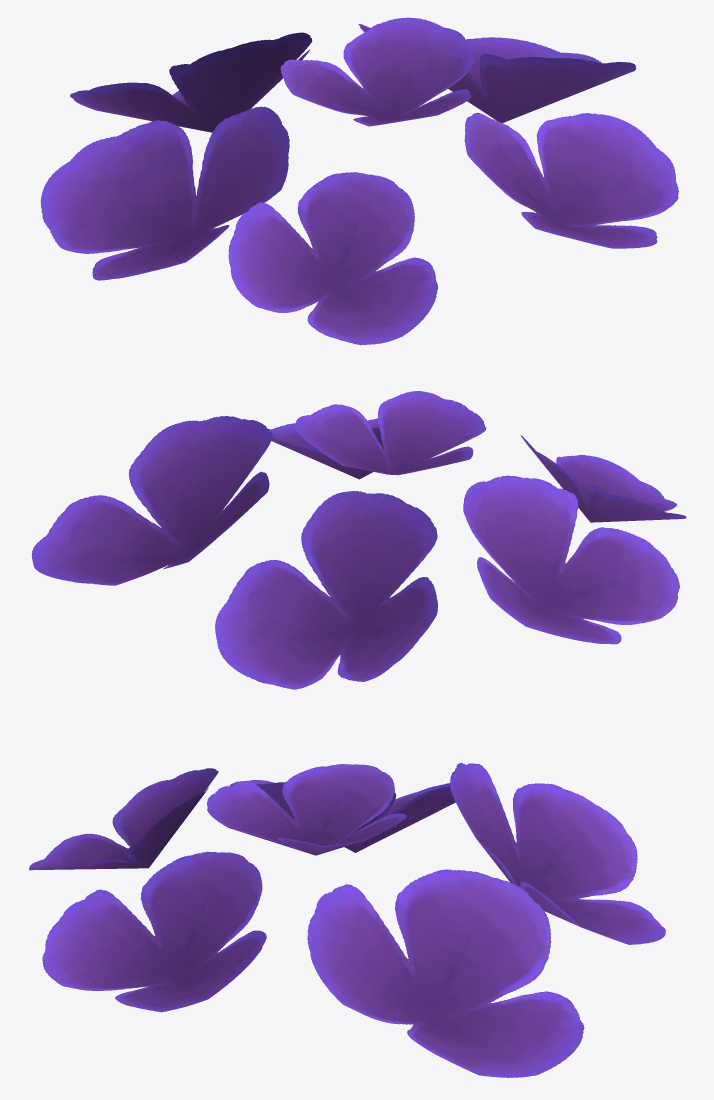
File: Plant_7.gltf
The picture shows the model from 3 angles, top to bottom: view 1: azimuth 30°, elevation 25°; view 2: azimuth 150°, elevation 25°; view 3: azimuth 270°, elevation 25°; orthographic projection. The views are drawn at different scales.
Visible parts, largest first — view 1: Plant_7; view 2: Plant_7; view 3: Plant_7.
Part boxes in pixels (x1=…): Plant_7: x1=40, y1=17, x2=678, y2=345; Plant_7: x1=31, y1=391, x2=686, y2=689; Plant_7: x1=29, y1=763, x2=665, y2=1077.
Bounding box in the file's own units: 1.05 × 0.2494 × 0.9621.
Materials: 1 (1 with a texture image).
